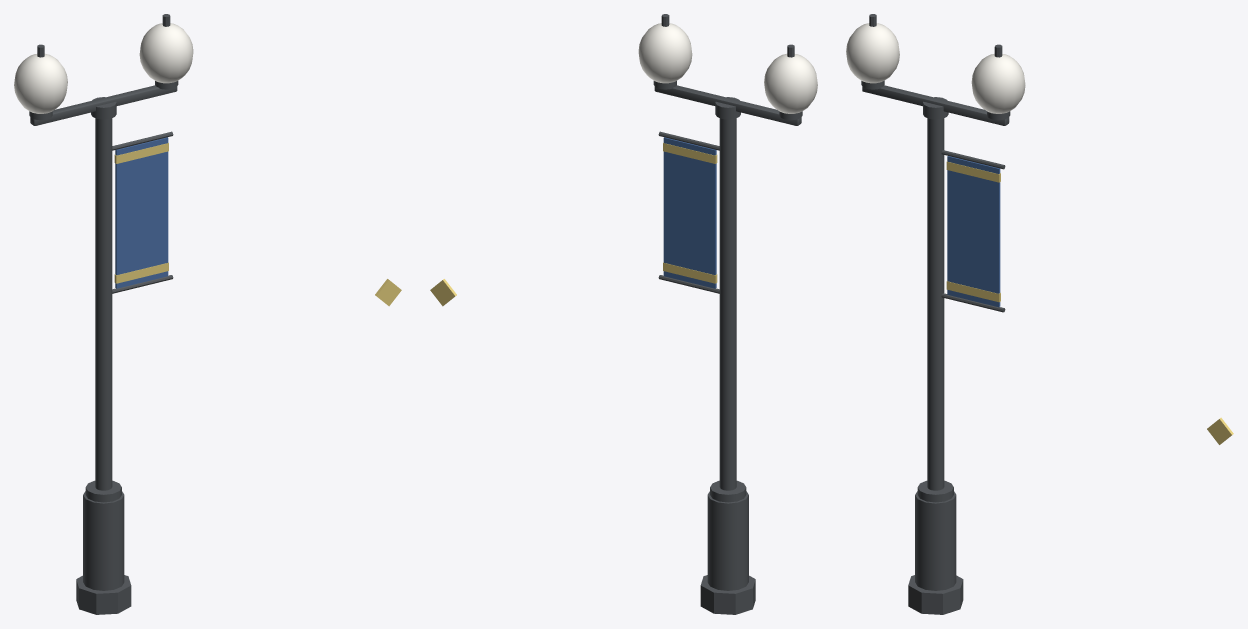
File: ornamental_streetlamp.glb
3 renders of one model, left to right at view 1: azimuth 30°, elevation 25°; view 2: azimuth 150°, elevation 25°; view 3: azimuth 330°, elevation 25°, orthographic.
Visible parts, largest first — view 1: ornamental_streetlamp; view 2: ornamental_streetlamp; view 3: ornamental_streetlamp.
Boxes of the visible parts, box(x1,y1,x2,y2) form: ornamental_streetlamp: box(14, 14, 401, 614); ornamental_streetlamp: box(430, 14, 817, 614); ornamental_streetlamp: box(846, 14, 1233, 614).
Size of the model in its own units: 3.42 by 4.88 by 0.44.
